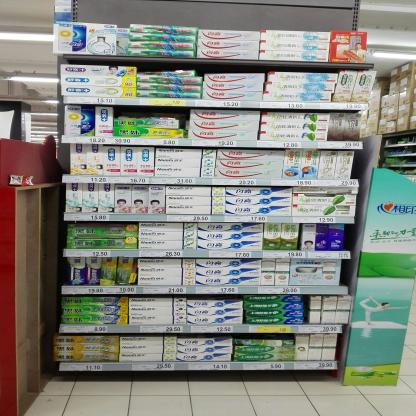Void: (125, 108, 181, 116)
